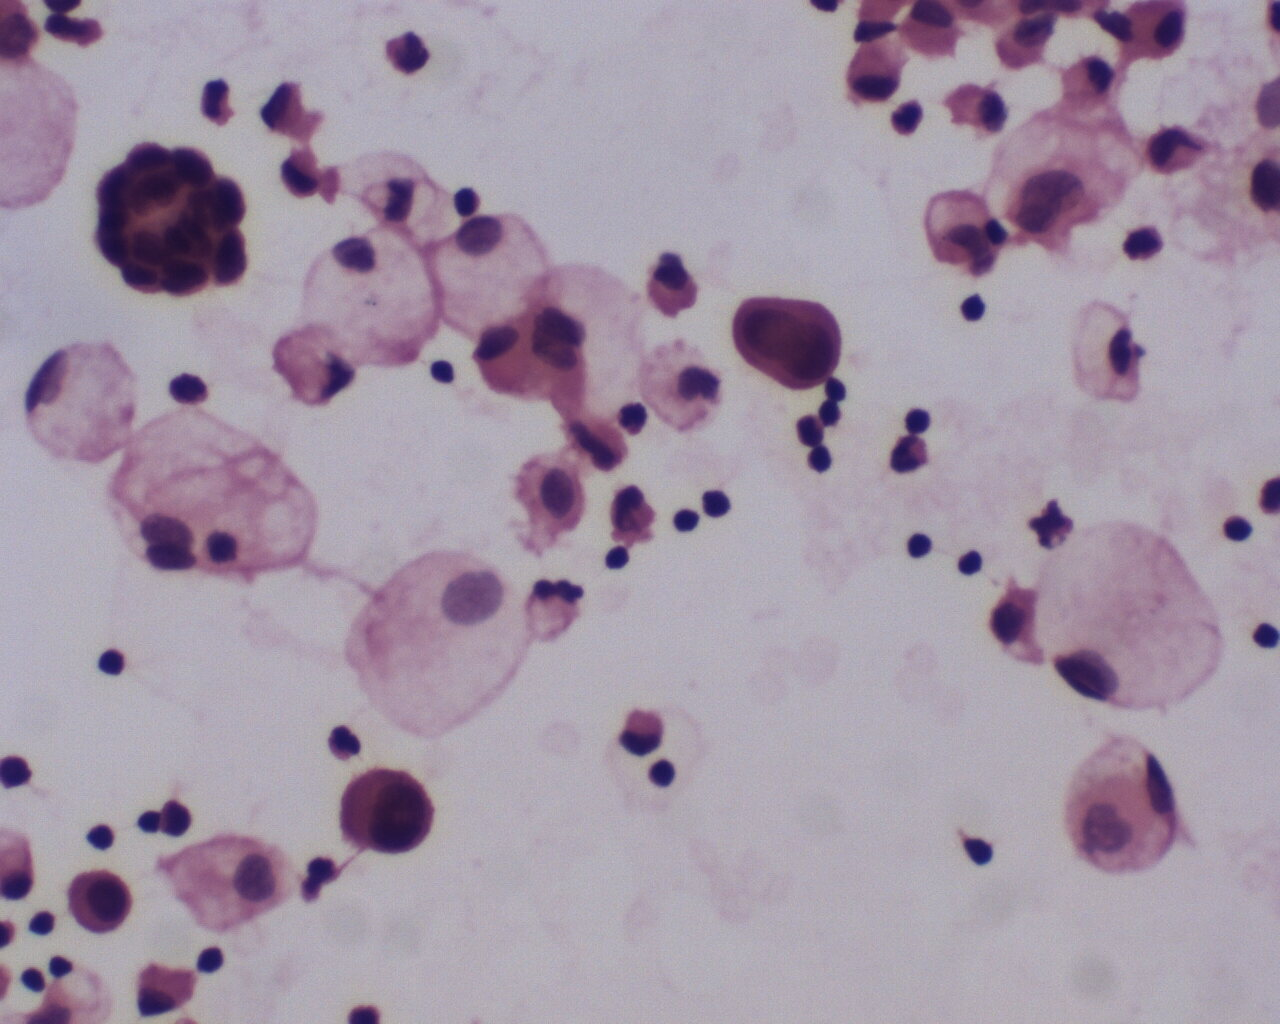ab: (721, 283, 853, 393), (340, 764, 435, 869), (66, 860, 137, 938)
histo: (343, 548, 538, 743), (1035, 519, 1224, 716), (302, 227, 445, 373), (24, 338, 140, 472), (156, 838, 305, 937), (430, 211, 553, 332)
lymph: (86, 642, 135, 688), (953, 285, 991, 327), (669, 501, 703, 541), (648, 758, 680, 796), (901, 528, 935, 563)
meso: (511, 450, 588, 542), (1121, 1, 1189, 65)
